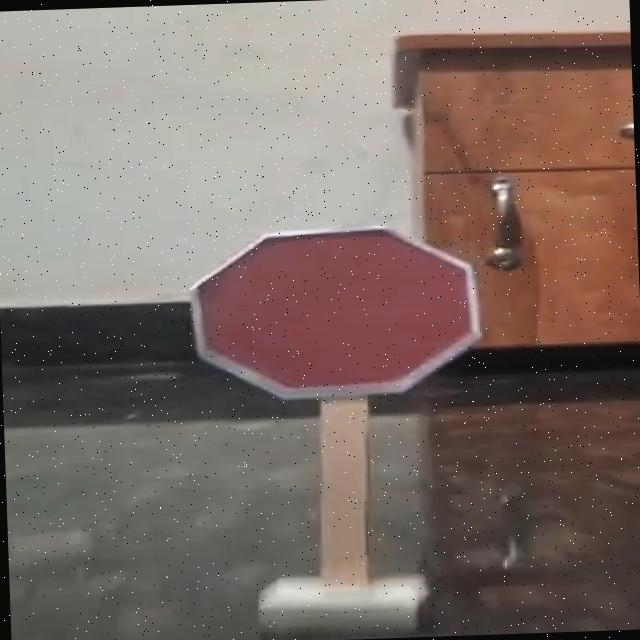Stop: (148, 209, 530, 422)
